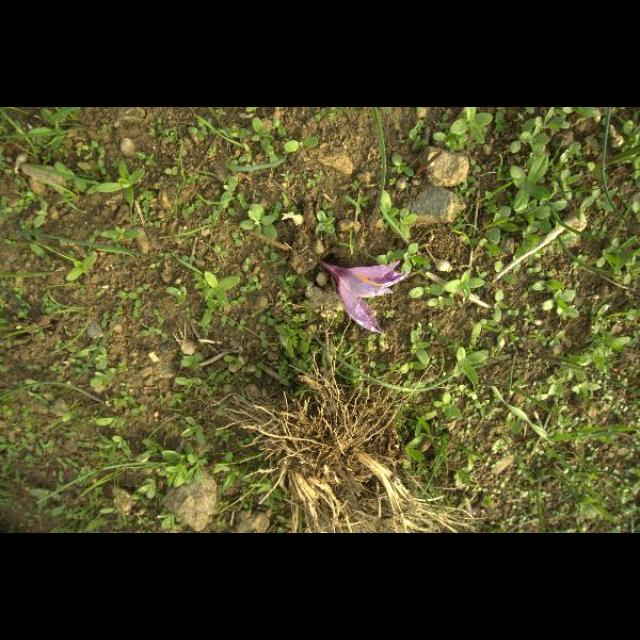flower: (318, 261, 407, 335)
